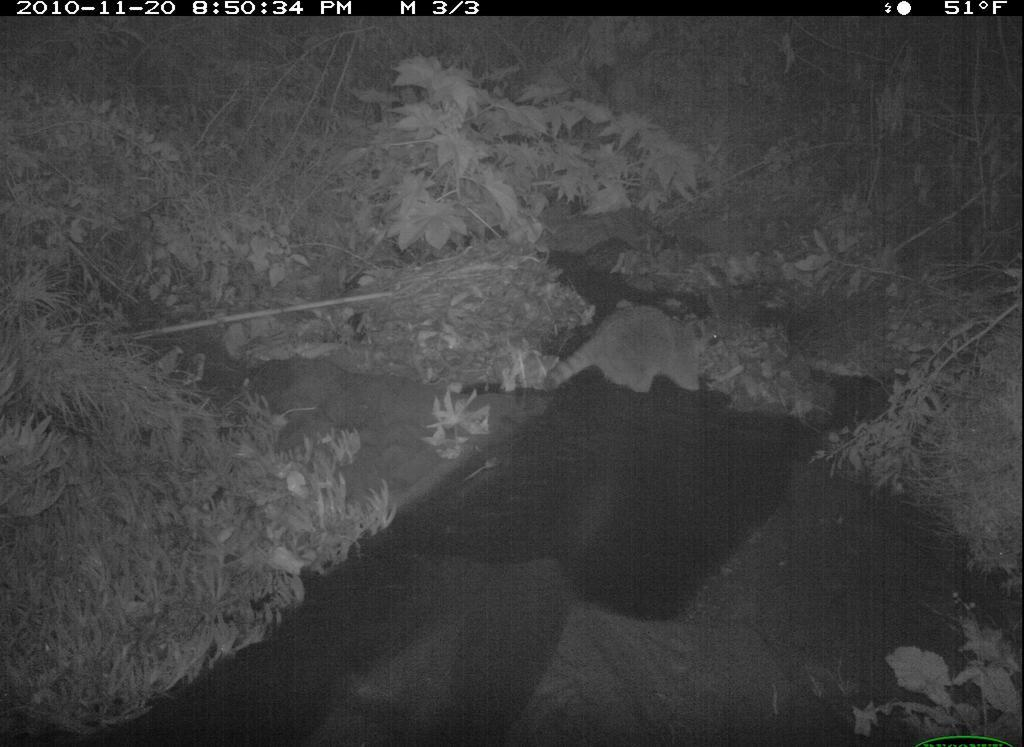raccoon: (537, 304, 738, 413)
